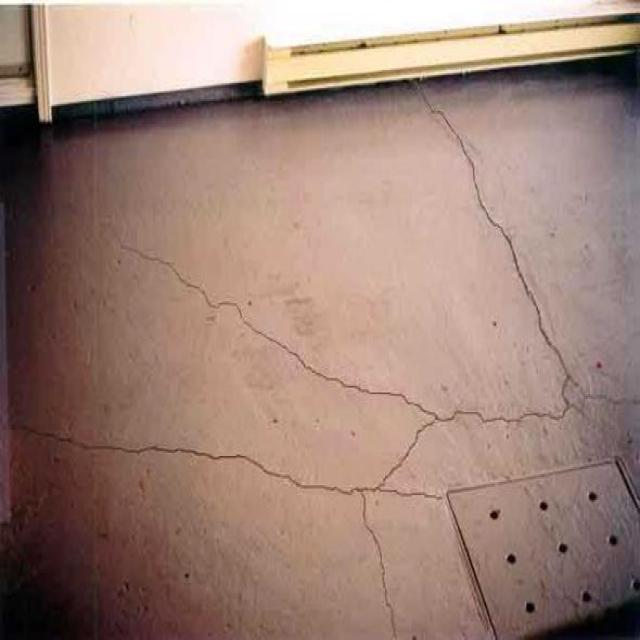crack: (110, 218, 439, 420), (415, 81, 567, 371), (36, 425, 361, 497), (444, 373, 577, 427), (360, 492, 399, 637), (369, 418, 435, 489), (387, 485, 445, 503)
